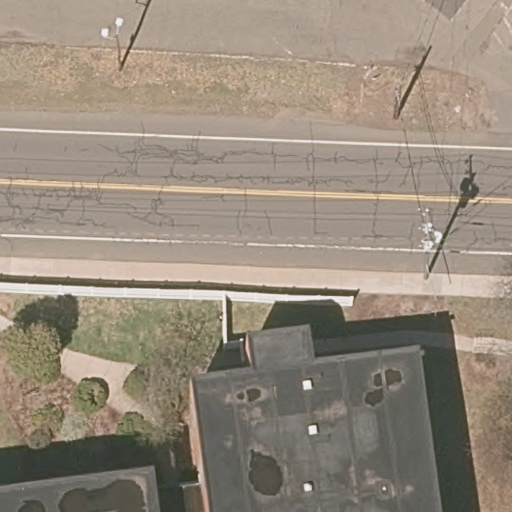DT: (416, 205, 442, 279), (100, 16, 124, 72)
